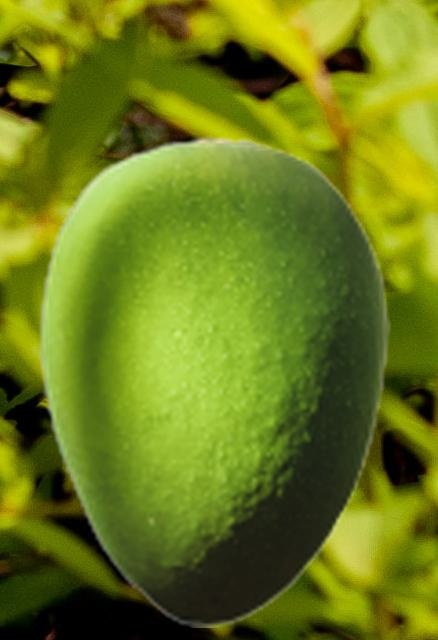green_mango: (37, 135, 389, 626)
